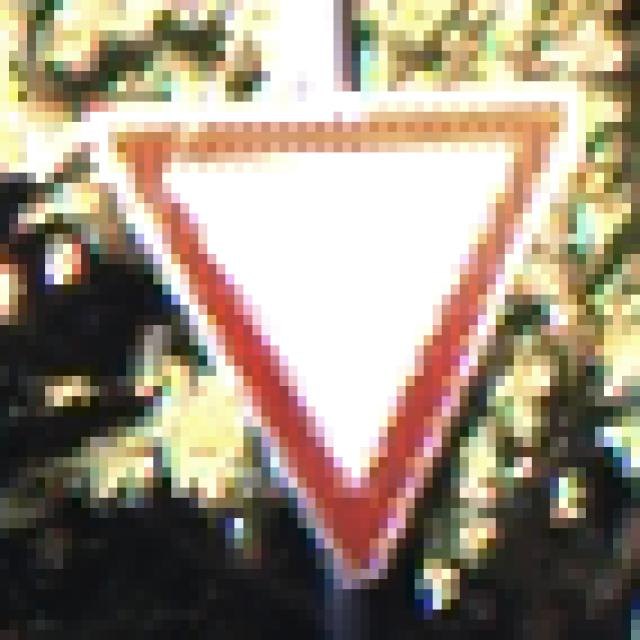Give Way: (64, 52, 578, 590)
